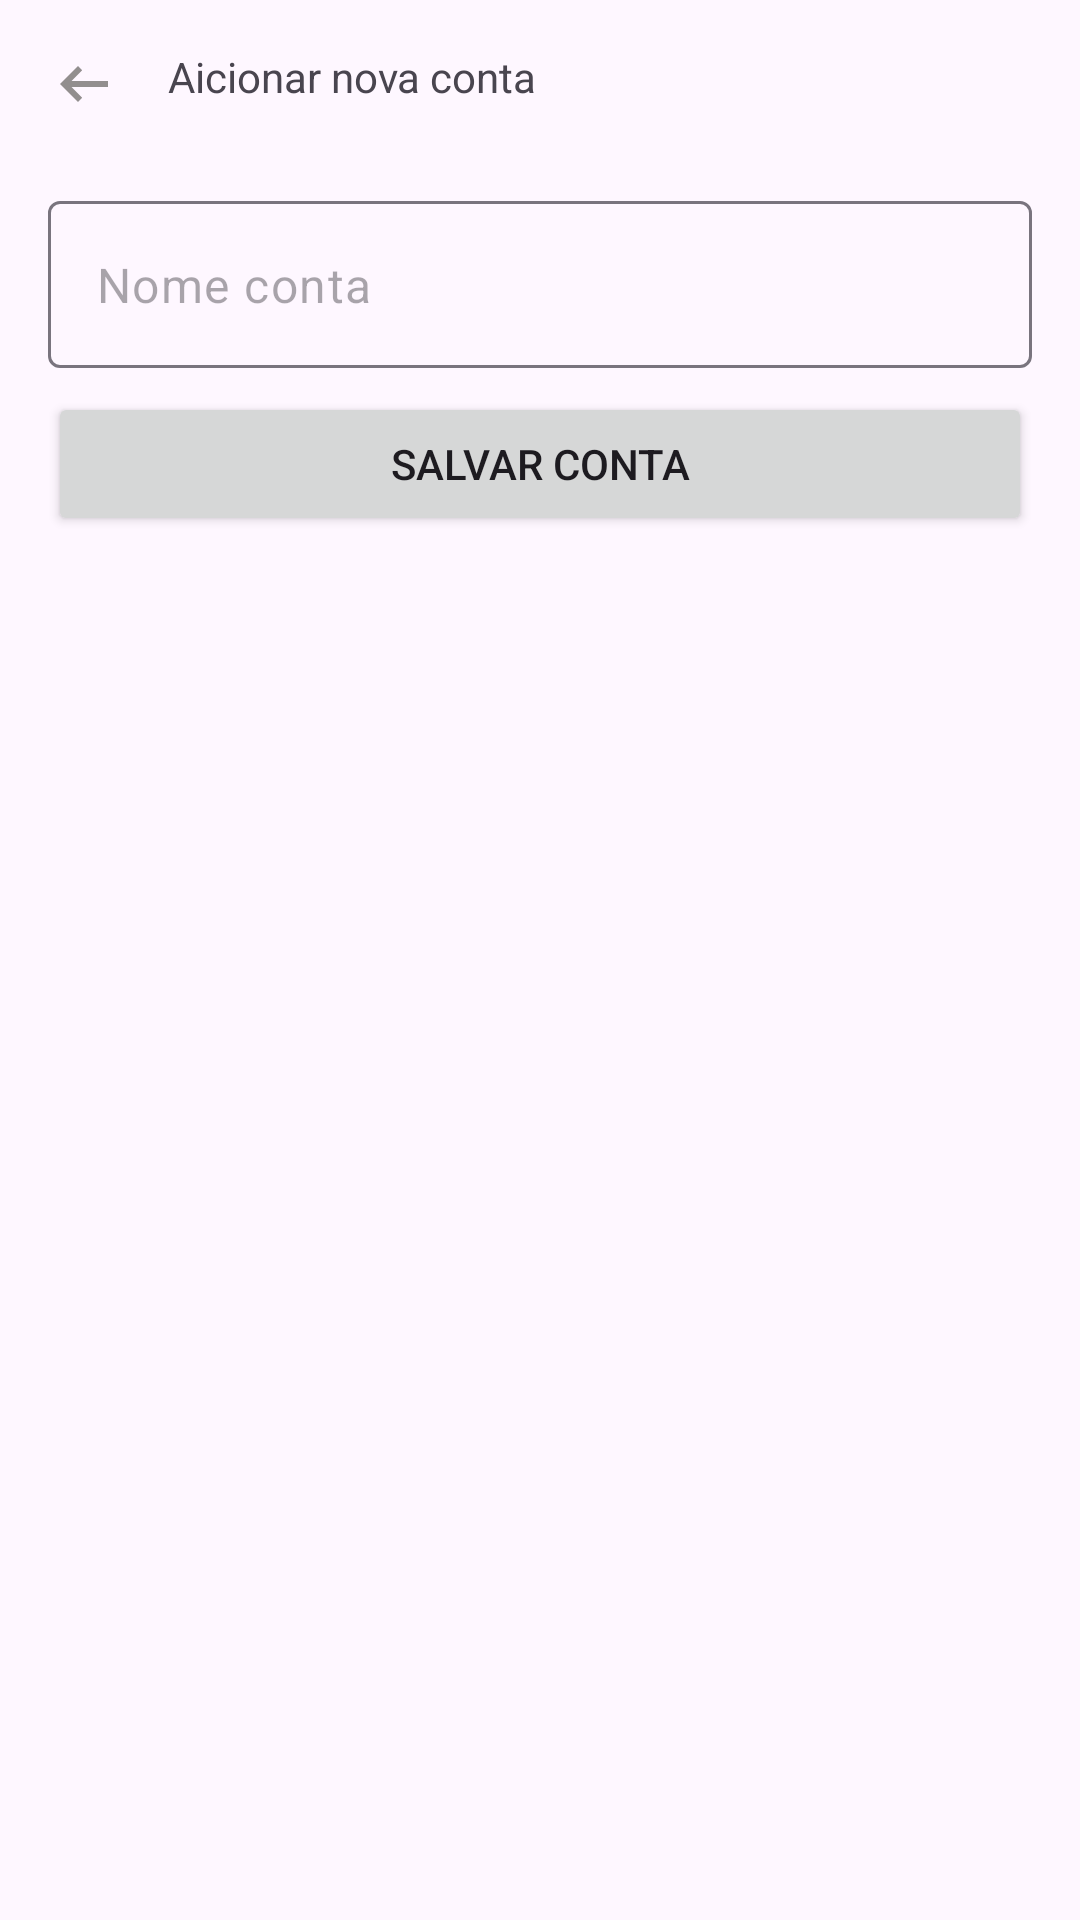

Screen size 1080x1920. Icon name, then its box in pixels as (x1, y1, x2, y2):
voltar: (60, 66, 108, 102)
